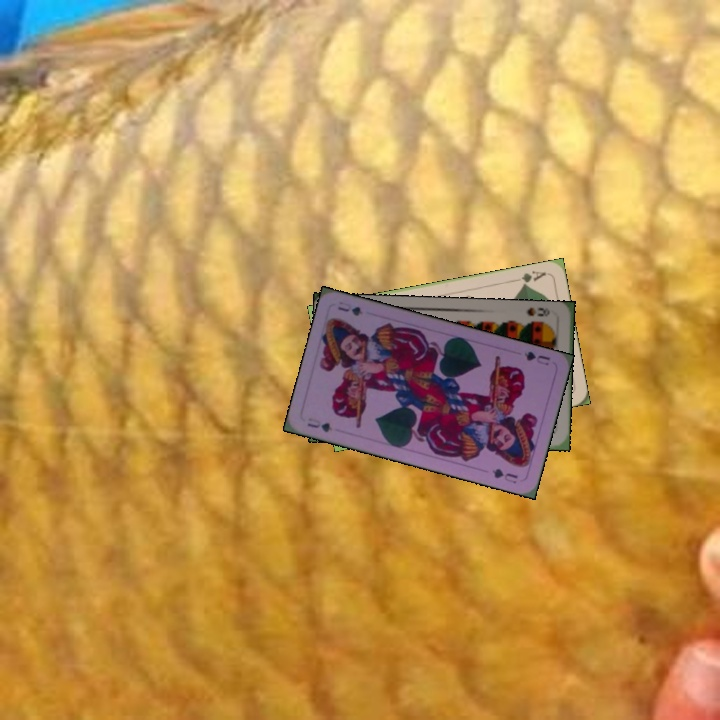GA: (509, 266, 548, 289)
GU: (520, 347, 553, 368), (303, 414, 335, 435)
S8: (523, 304, 552, 319)
